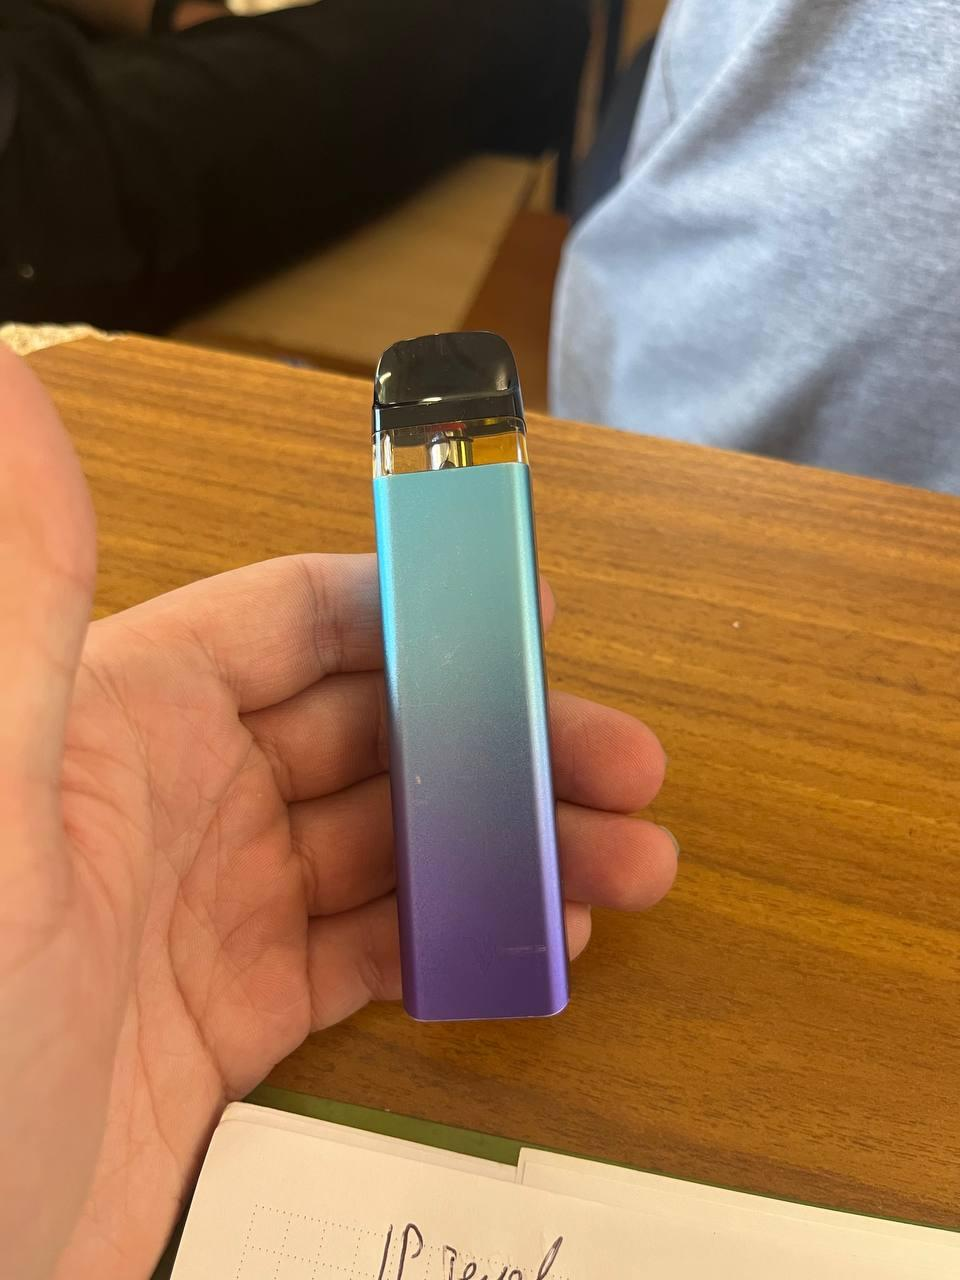Vape: (373, 332, 567, 1021)
